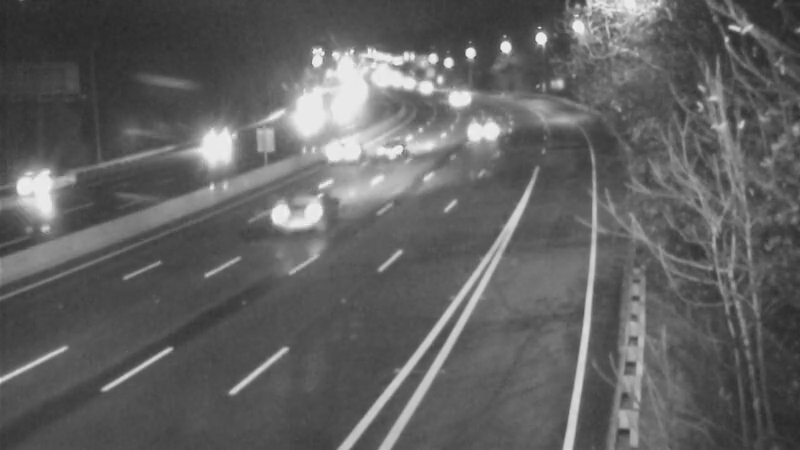vehicle: (259, 178, 339, 258), (1, 153, 81, 233), (433, 71, 483, 121), (455, 102, 505, 152), (376, 120, 426, 170), (327, 120, 377, 170), (187, 120, 237, 170)
